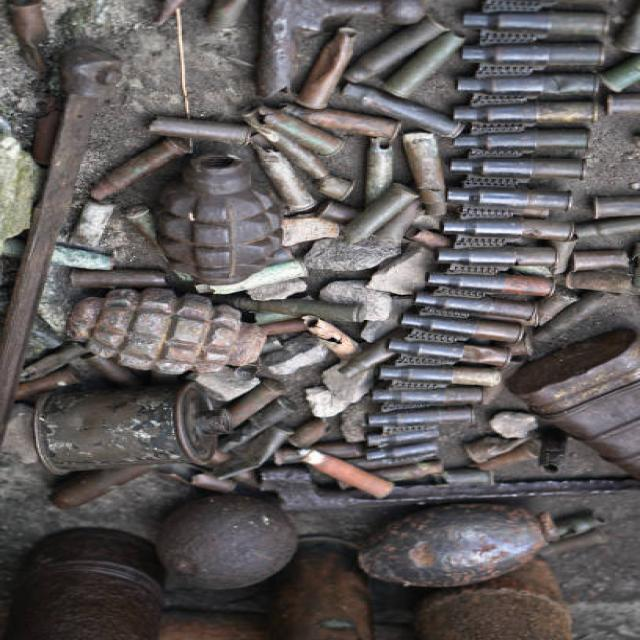grenade: (65, 280, 275, 378), (155, 146, 283, 291)
